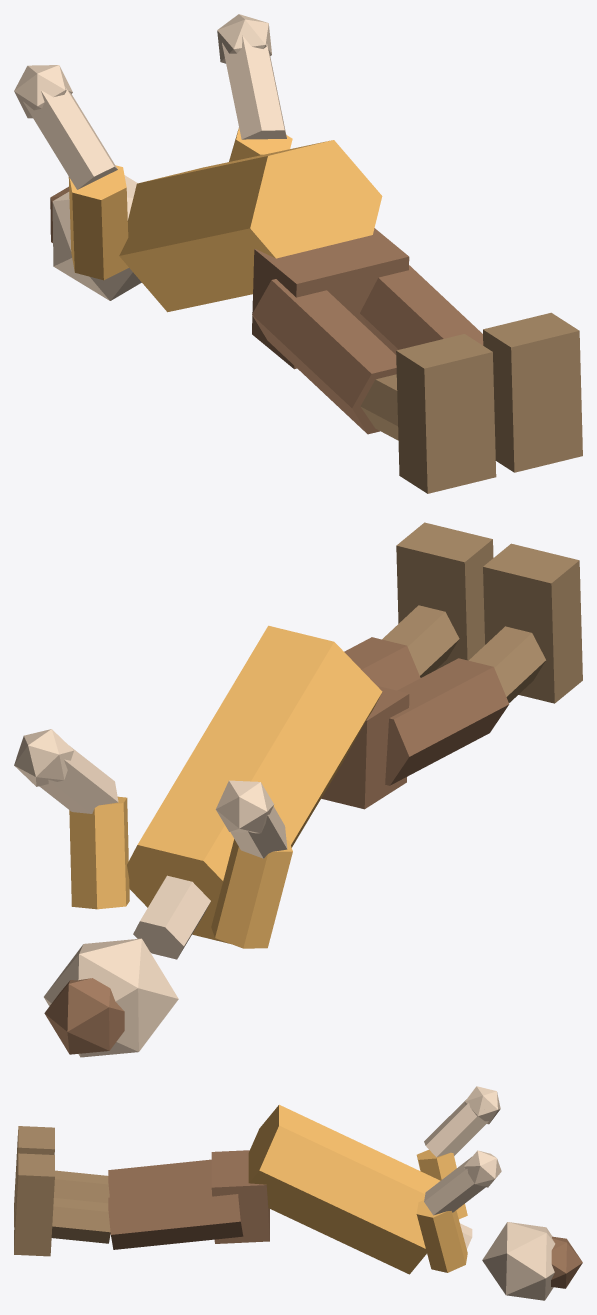
The model's file is pose_dodge_roll_30.glb.
The picture shows the model from 3 angles, top to bottom: view 1: azimuth 30°, elevation 25°; view 2: azimuth 150°, elevation 25°; view 3: azimuth 270°, elevation 25°; orthographic projection. The views are drawn at different scales.
Parts seen in each view (by area): view 1: pose; view 2: pose; view 3: pose.
Boxes of the visible parts, box(x1,y1,x2,y2) form: pose: box(14, 14, 582, 493); pose: box(14, 522, 582, 1057); pose: box(14, 1086, 582, 1300).
Bounding box in the file's own units: 0.5091 × 0.5433 × 1.55.
